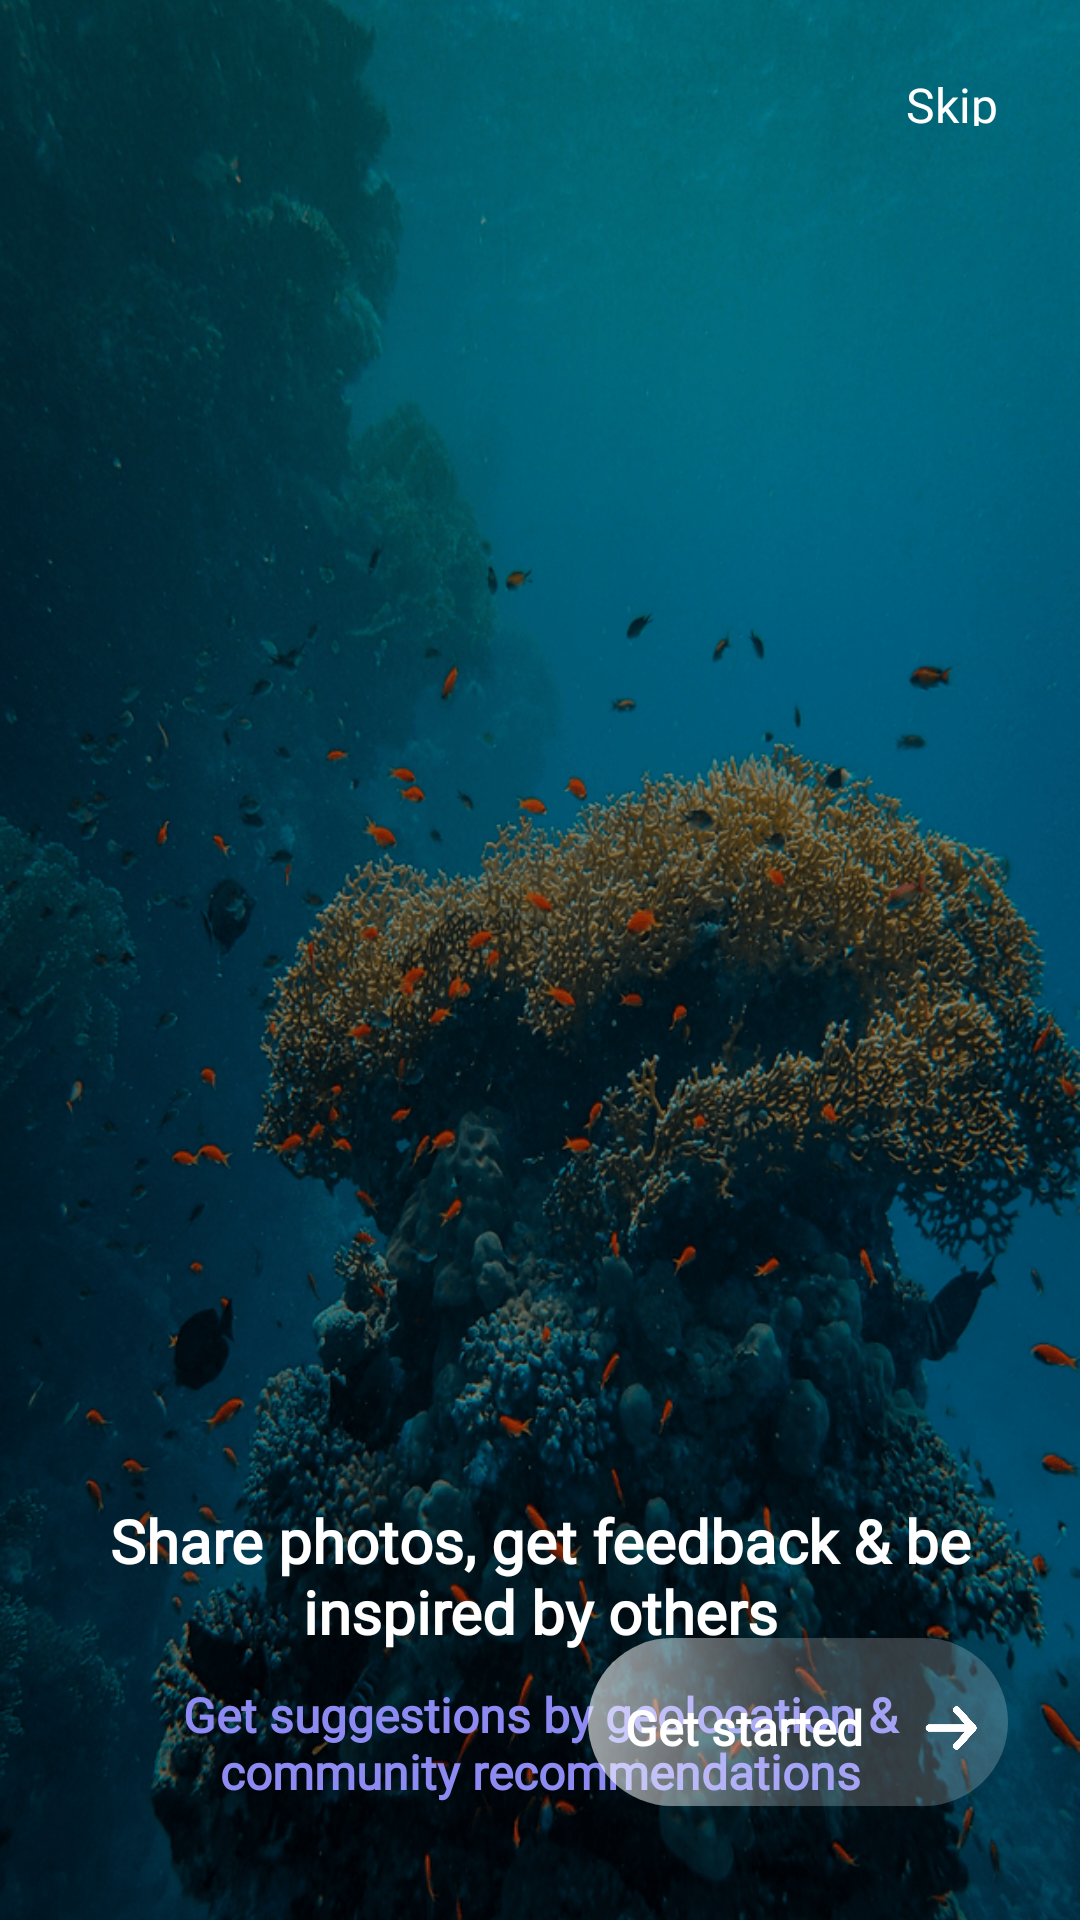

Where to tap for icons on this 1080w x 1920h app screen, as (x=x, y=y):
arrow onboard: (x=949, y=1728)
